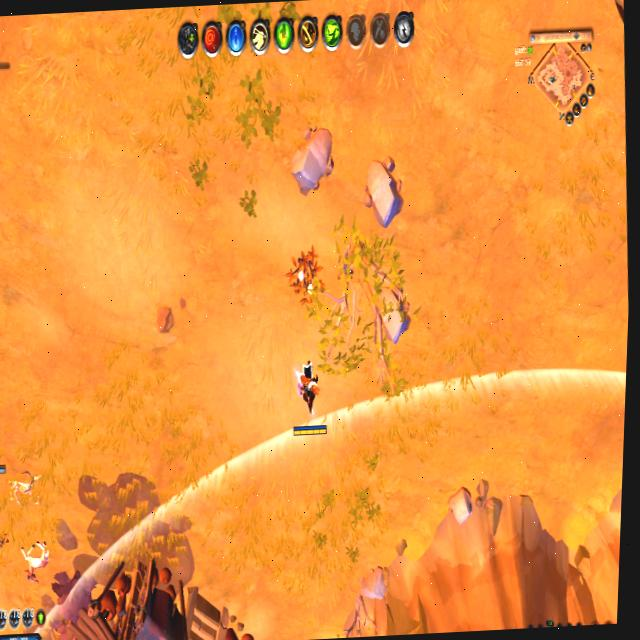hide: (286, 250, 323, 304)
mob: (18, 538, 53, 580), (0, 513, 9, 558)
red: (289, 360, 329, 440), (0, 460, 8, 479)
